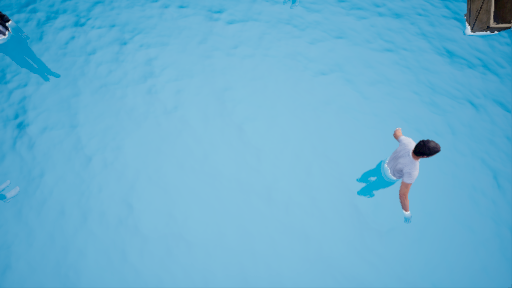person: (361, 124, 440, 217)
